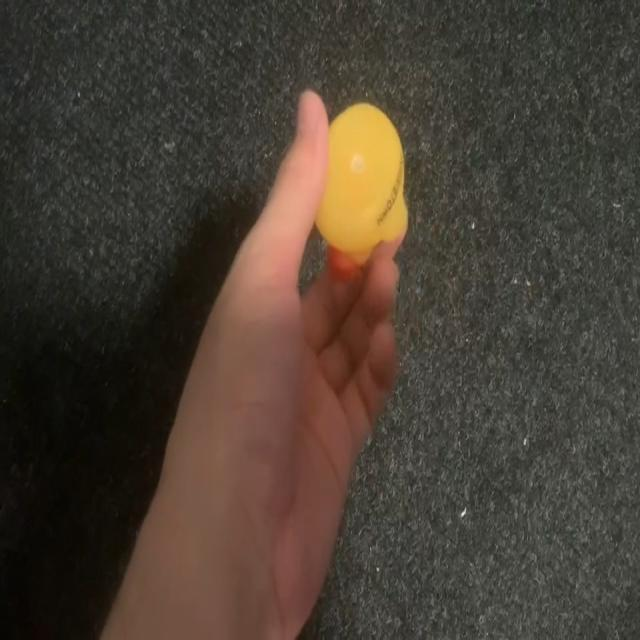rubber-duck: (315, 102, 406, 262)
